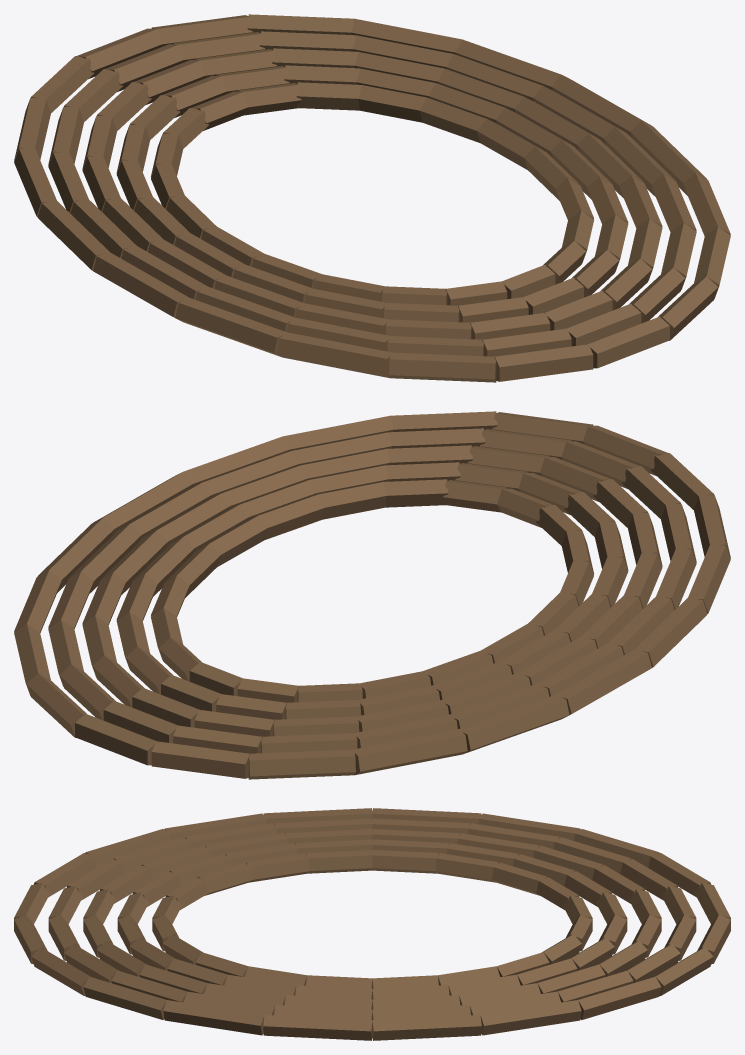
Rendered from rope.glb.
3 views of the same model, one above another, from view 1: azimuth 30°, elevation 25°; view 2: azimuth 150°, elevation 25°; view 3: azimuth 270°, elevation 25° (orthographic). The views are drawn at different scales.
Parts seen in each view (by area): view 1: coiled rope.087, coiled rope.086, coiled rope.088, coiled rope.085, coiled rope.089, coiled rope.084, coiled rope.090, coiled rope.080, coiled rope.098, coiled rope.099, coiled rope.096, coiled rope.097 (+88 smaller); view 2: coiled rope.092, coiled rope.093, coiled rope.091, coiled rope.094, coiled rope.090, coiled rope.095, coiled rope.089, coiled rope.099, coiled rope.080, coiled rope.081, coiled rope.083, coiled rope.082 (+88 smaller); view 3: coiled rope.080, coiled rope.099, coiled rope.081, coiled rope.098, coiled rope.082, coiled rope.097, coiled rope.009, coiled rope.010, coiled rope.011, coiled rope.008, coiled rope.083, coiled rope.096 (+88 smaller).
Part boxes in pixels (x1=…): coiled rope.087: x1=277, y1=332, x2=391, y2=377; coiled rope.086: x1=389, y1=352, x2=496, y2=382; coiled rope.088: x1=175, y1=298, x2=287, y2=357; coiled rope.085: x1=494, y1=344, x2=593, y2=381; coiled rope.089: x1=93, y1=252, x2=189, y2=320; coiled rope.084: x1=587, y1=316, x2=669, y2=368; coiled rope.090: x1=37, y1=200, x2=109, y2=270; coiled rope.080: x1=630, y1=120, x2=707, y2=195; coiled rope.098: x1=455, y1=39, x2=560, y2=90; coiled rope.099: x1=552, y1=74, x2=651, y2=138; coiled rope.096: x1=247, y1=14, x2=354, y2=34; coiled rope.097: x1=351, y1=19, x2=461, y2=54; coiled rope.092: x1=352, y1=729, x2=467, y2=774; coiled rope.093: x1=248, y1=749, x2=355, y2=779; coiled rope.091: x1=457, y1=695, x2=569, y2=754; coiled rope.094: x1=151, y1=741, x2=250, y2=778; coiled rope.090: x1=555, y1=649, x2=651, y2=717; coiled rope.095: x1=75, y1=713, x2=157, y2=765; coiled rope.089: x1=635, y1=597, x2=707, y2=667; coiled rope.099: x1=37, y1=517, x2=114, y2=592; coiled rope.080: x1=93, y1=471, x2=192, y2=535; coiled rope.081: x1=184, y1=436, x2=289, y2=487; coiled rope.083: x1=390, y1=411, x2=497, y2=431; coiled rope.082: x1=283, y1=416, x2=393, y2=451; coiled rope.080: x1=263, y1=1015, x2=372, y2=1040; coiled rope.099: x1=372, y1=1015, x2=481, y2=1040; coiled rope.081: x1=163, y1=1000, x2=264, y2=1035; coiled rope.098: x1=480, y1=1000, x2=581, y2=1035; coiled rope.082: x1=83, y1=976, x2=166, y2=1019; coiled rope.097: x1=578, y1=976, x2=661, y2=1019; coiled rope.009: x1=306, y1=850, x2=372, y2=873; coiled rope.010: x1=372, y1=850, x2=438, y2=873; coiled rope.011: x1=435, y1=853, x2=498, y2=882; coiled rope.008: x1=246, y1=853, x2=309, y2=882; coiled rope.083: x1=31, y1=947, x2=90, y2=995; coiled rope.096: x1=654, y1=947, x2=713, y2=995.
Size of the model in its own units: 0.1896 by 0.008 by 0.2611.
